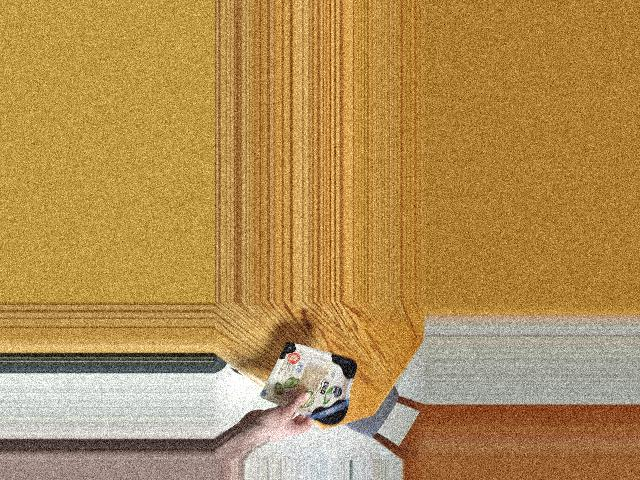cheese: (275, 343, 358, 427)
